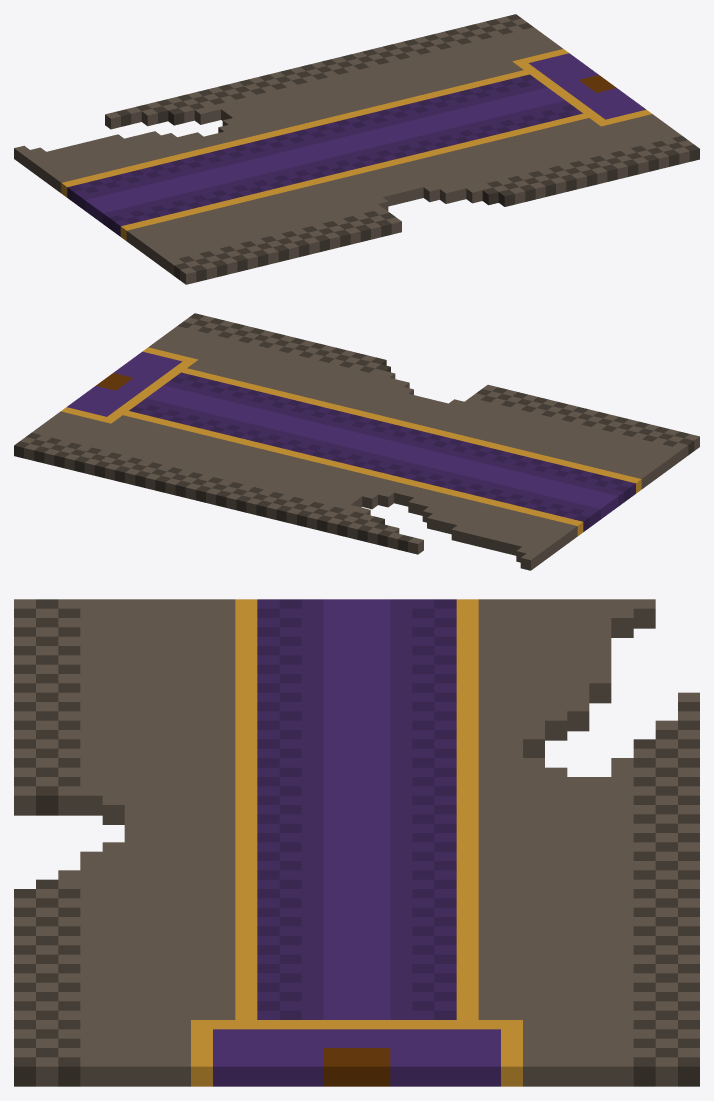
File: UPDATED bossLevel 50x31.obj
3 views of the same model, one above another, from view 1: azimuth 30°, elevation 25°; view 2: azimuth 150°, elevation 25°; view 3: azimuth 270°, elevation 25° (orthographic). The views are drawn at different scales.
Size of the model in its own units: 5 by 0.1 by 3.1.
Materials: 1 (1 with a texture image).
